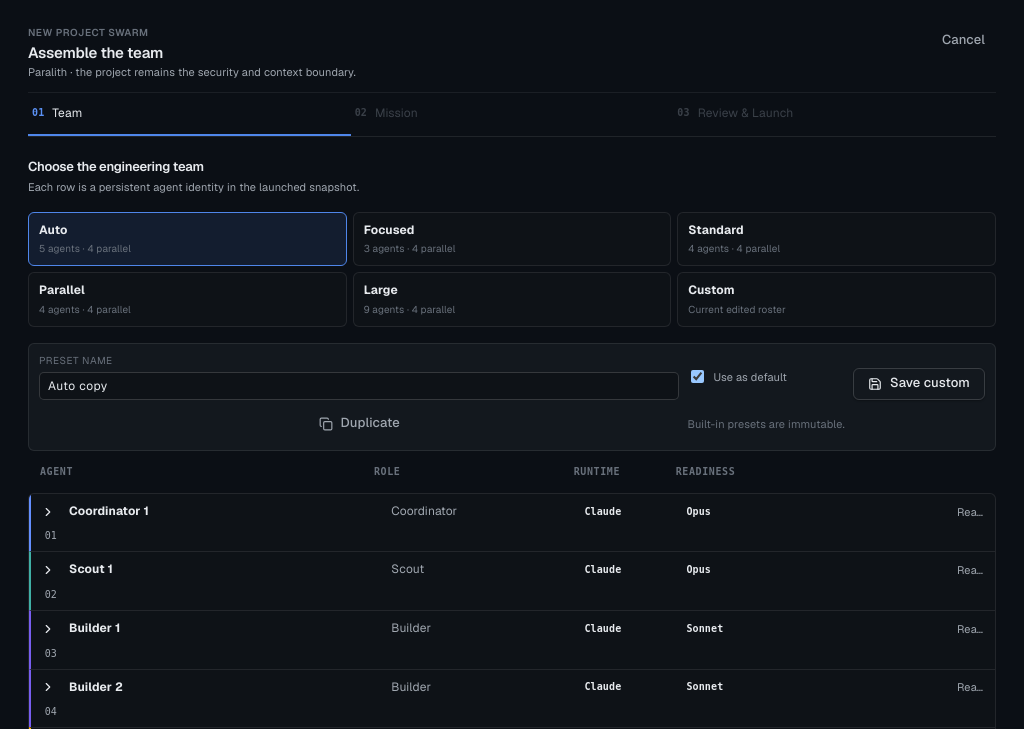
Scenario: Swarm model identity contract › resolves a canonical model for every member of the Standard preset
The image size is (1024, 729).
Expected: the text "Auto" is shown, top-left (39, 222), bottom-right (68, 238)
Click the text "Standard". click: (716, 230)
box: top-left (688, 222), bottom-right (744, 238)
(page scrolled)
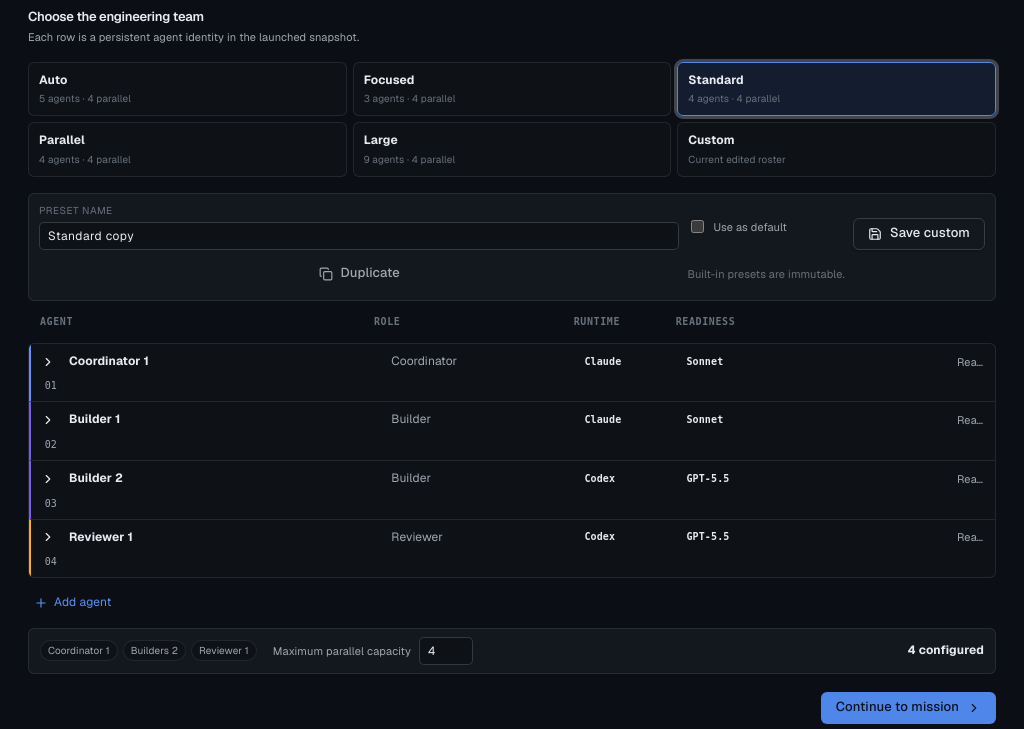
Click the button "Continue to mission". click: (908, 708)
box: top-left (821, 692), bottom-right (996, 724)
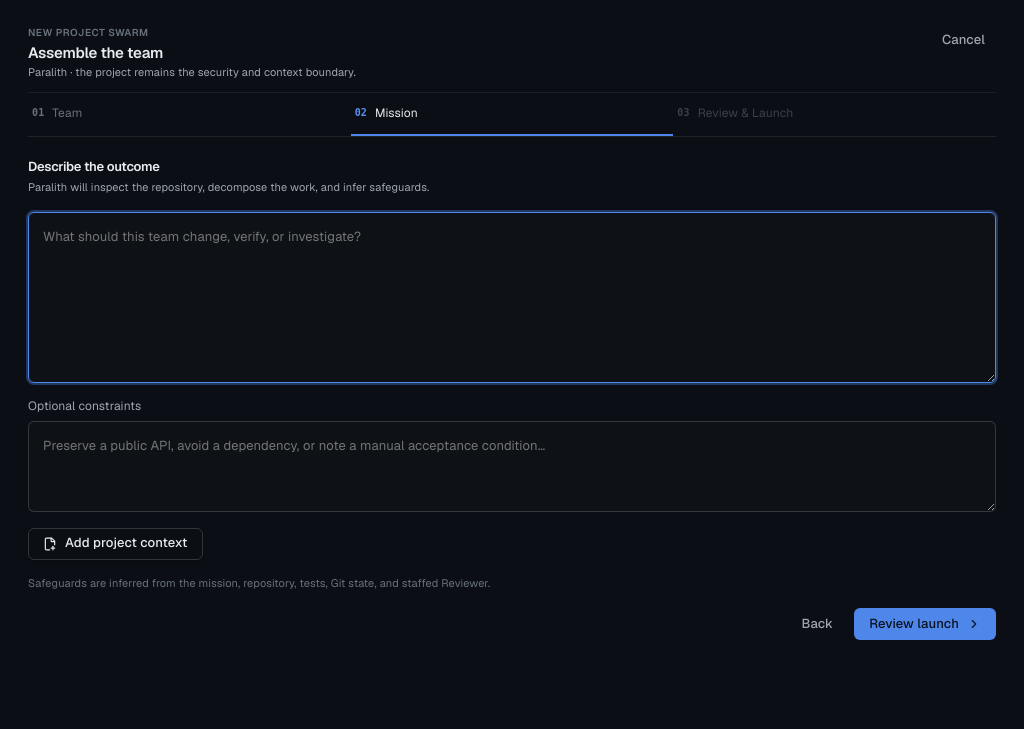
Type "Repair the notification pipeline" into the text box with placeholder "What should this team change, verify, or investigate?". click: (512, 297)
box: top-left (28, 212), bottom-right (996, 383)
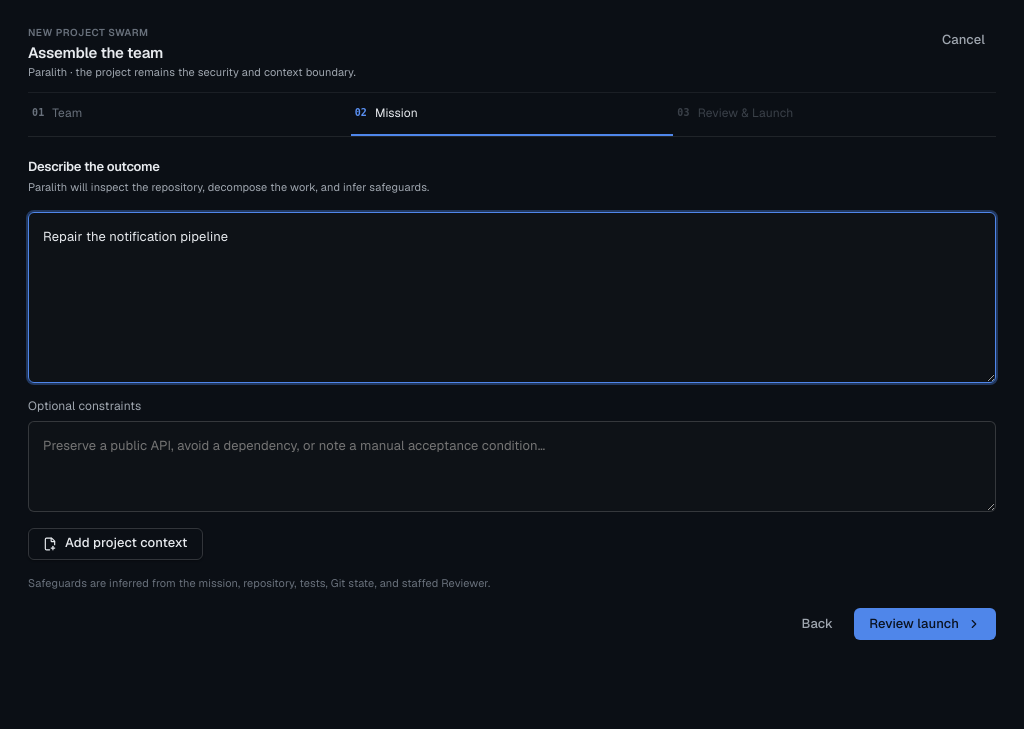
Click the button "Review launch". click: (925, 624)
box: top-left (854, 608), bottom-right (996, 640)
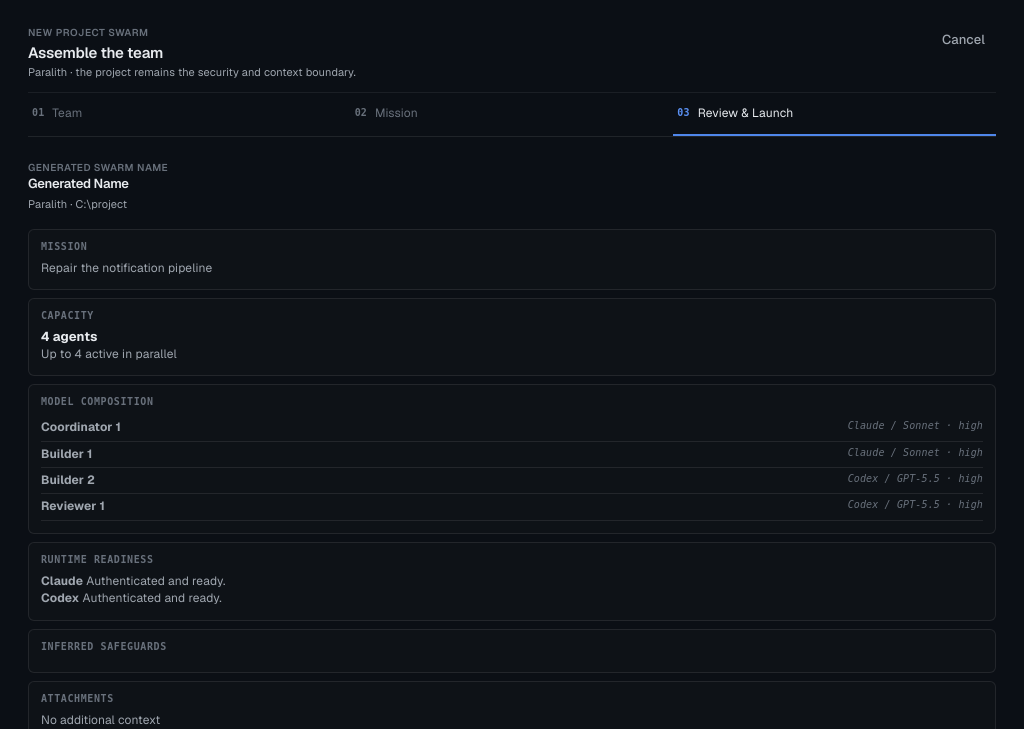
Result: the heading "Generated Name" is shown at top-left (28, 175), bottom-right (129, 192)
